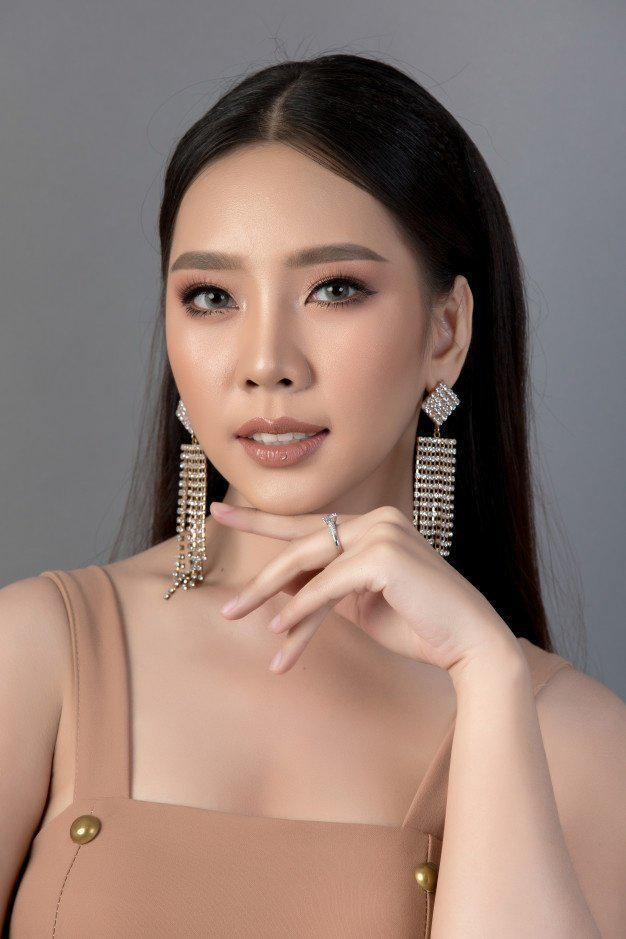Sober: (173, 180, 412, 498)
